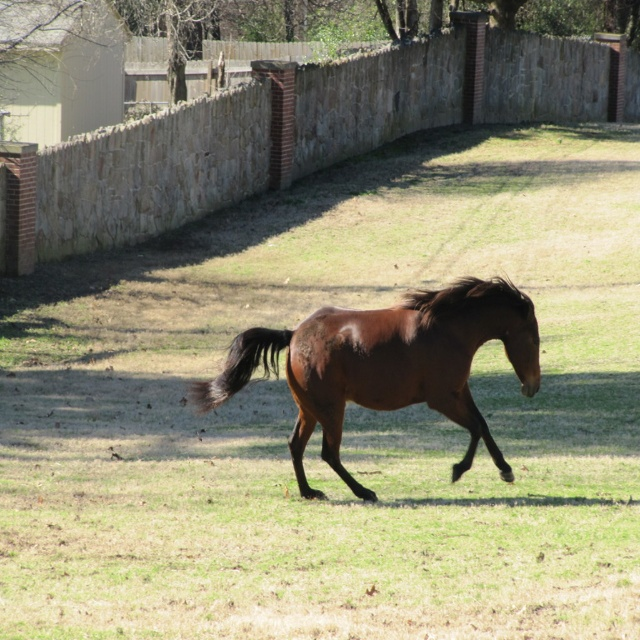Horse: (184, 267, 540, 501)
